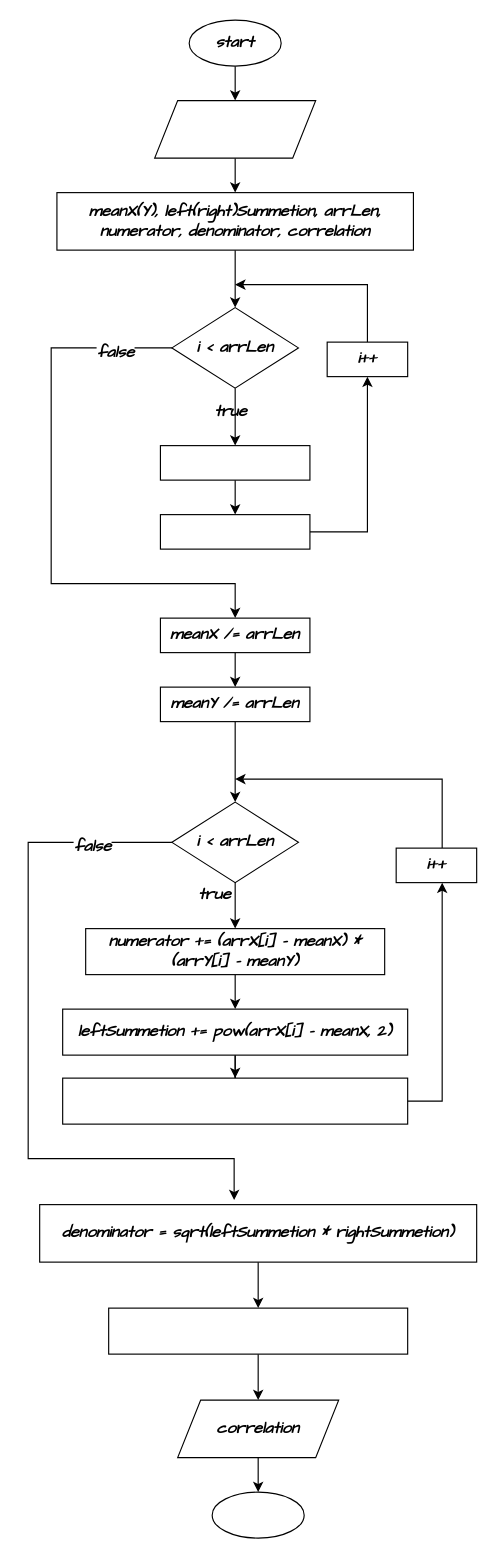
Some shapes in this 497 by 1558 pixel diagram are drawn without their labels. The shapes that lost their labels are listed below. From the top down, each one's centre as x and y in pixels, then its label:
At [235,128]: "arrX[], arrY[]".
At [234,462]: "meanX += arrX[i]".
At [234,531]: "meanY += arrX[i]".
At [235,1100]: "rightSummetion += pow(arrY[i] - meanY, 2)".
At [258,1330]: "correlation = numerator / denominator".
At [257,1514]: "end".
